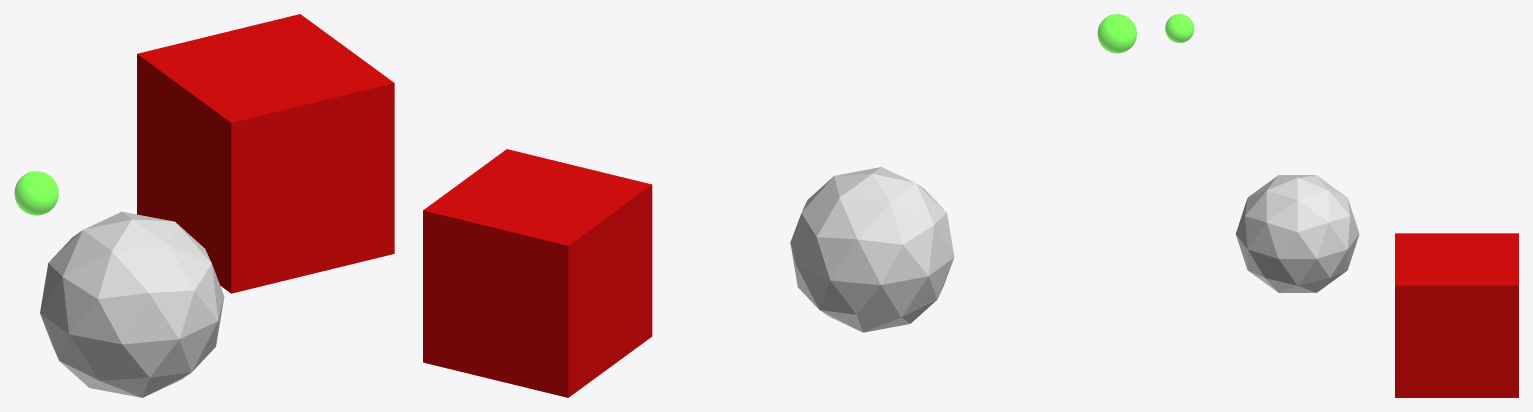
Rendered from TestShapes.glb.
The picture shows the model from 3 angles, left to right: view 1: azimuth 30°, elevation 25°; view 2: azimuth 150°, elevation 25°; view 3: azimuth 270°, elevation 25°; orthographic projection. The views are drawn at different scales.
Visible parts, largest first — view 1: Cube, Icosphere, Sphere; view 2: Cube, Icosphere, Sphere; view 3: Cube, Icosphere, Sphere.
Boxes of the visible parts, left/top/right/bottom form: Cube: left=137, top=14, right=394, bottom=293; Icosphere: left=40, top=211, right=224, bottom=397; Sphere: left=14, top=171, right=58, bottom=215; Cube: left=423, top=149, right=652, bottom=397; Icosphere: left=790, top=167, right=954, bottom=332; Sphere: left=1097, top=14, right=1136, bottom=53; Cube: left=1395, top=233, right=1518, bottom=397; Icosphere: left=1236, top=175, right=1359, bottom=292; Sphere: left=1165, top=14, right=1194, bottom=42.
Size of the model in its own units: 6.63 by 3.84 by 5.71.
